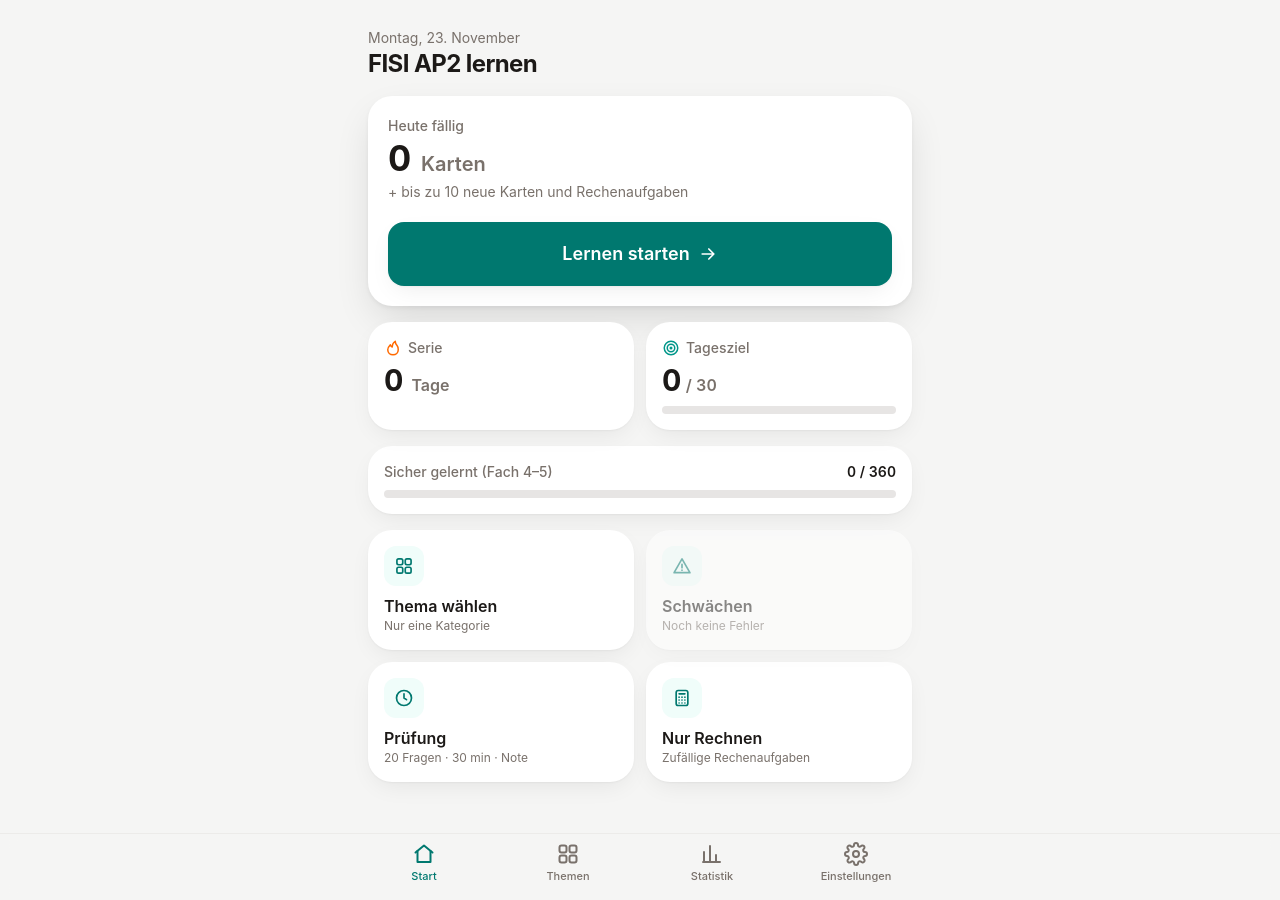
Test: App › „Keine Ahnung“ zeigt Lösung + Erklärung und zählt als nicht gewusst
Click the button "Nur Rechnen Zufällige Rechenaufgaben" at (682, 698), box [646,662,912,782]
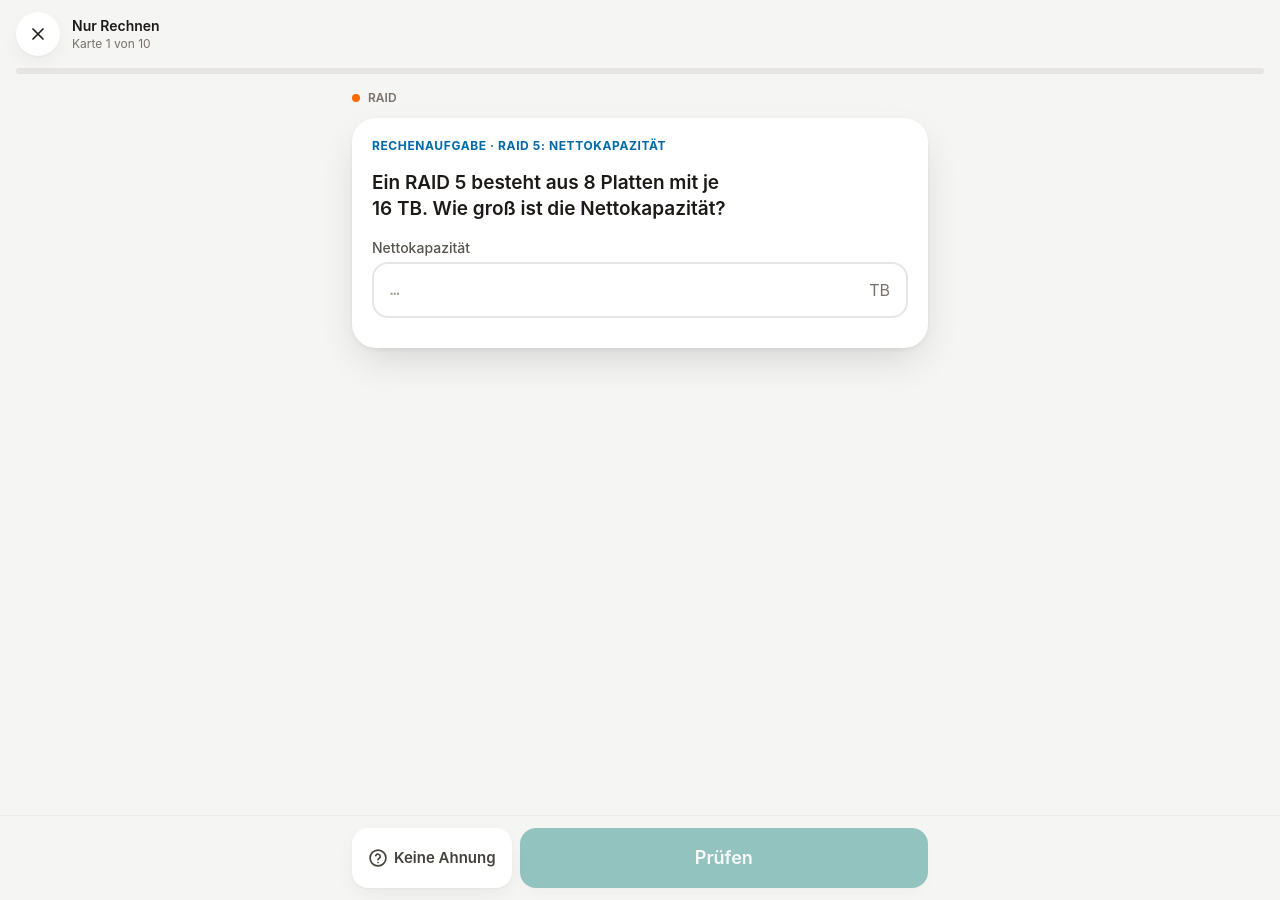
Click the button "Keine Ahnung" at (432, 858), box [352,828,512,888]
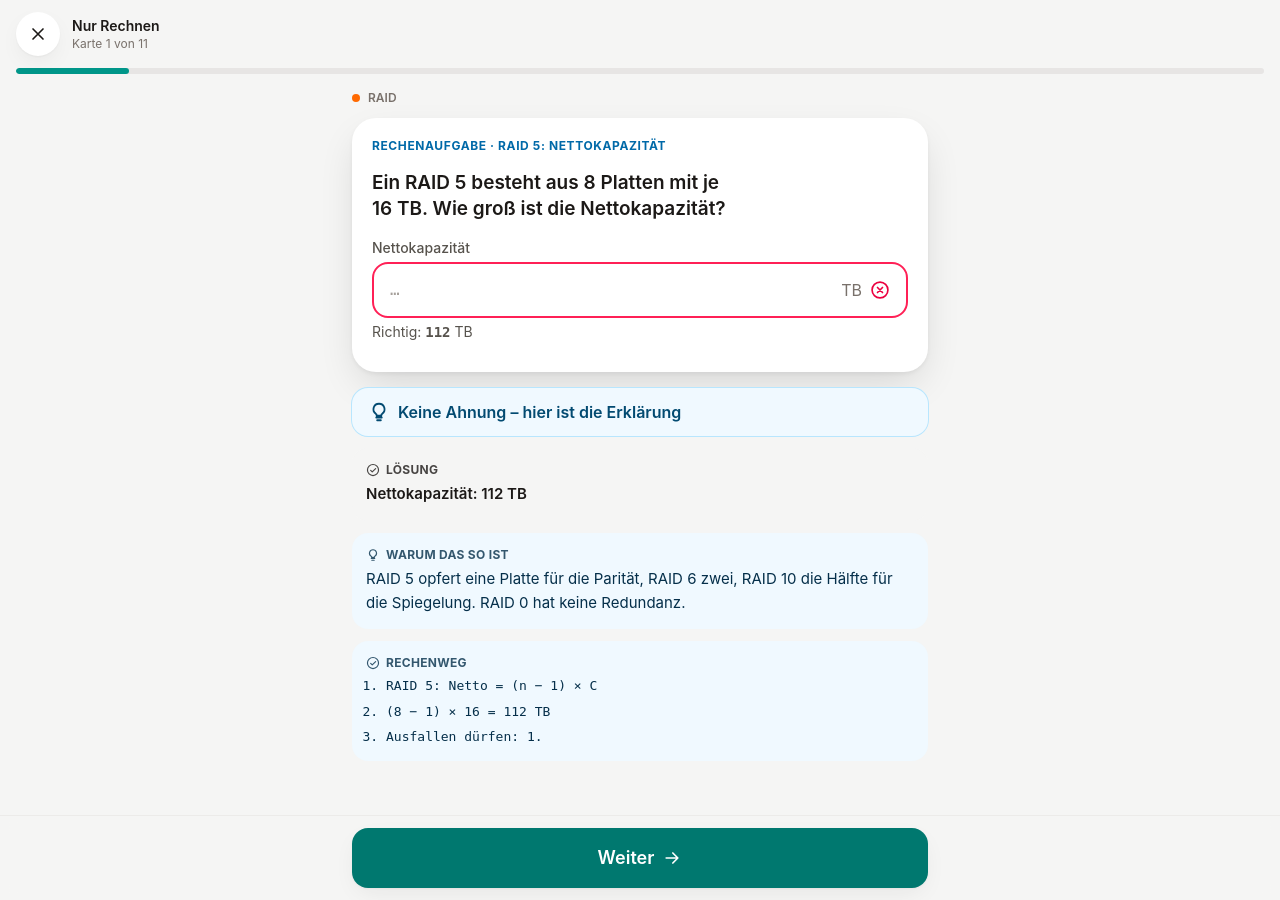
Expected: the message reads "Keine Ahnung – hier ist die Erklärung", [398,402,681,422]
Expected: the text "Lösung" is shown, [366,462,438,477]
Expected: the text "Warum das so ist" is shown, [366,547,509,562]
